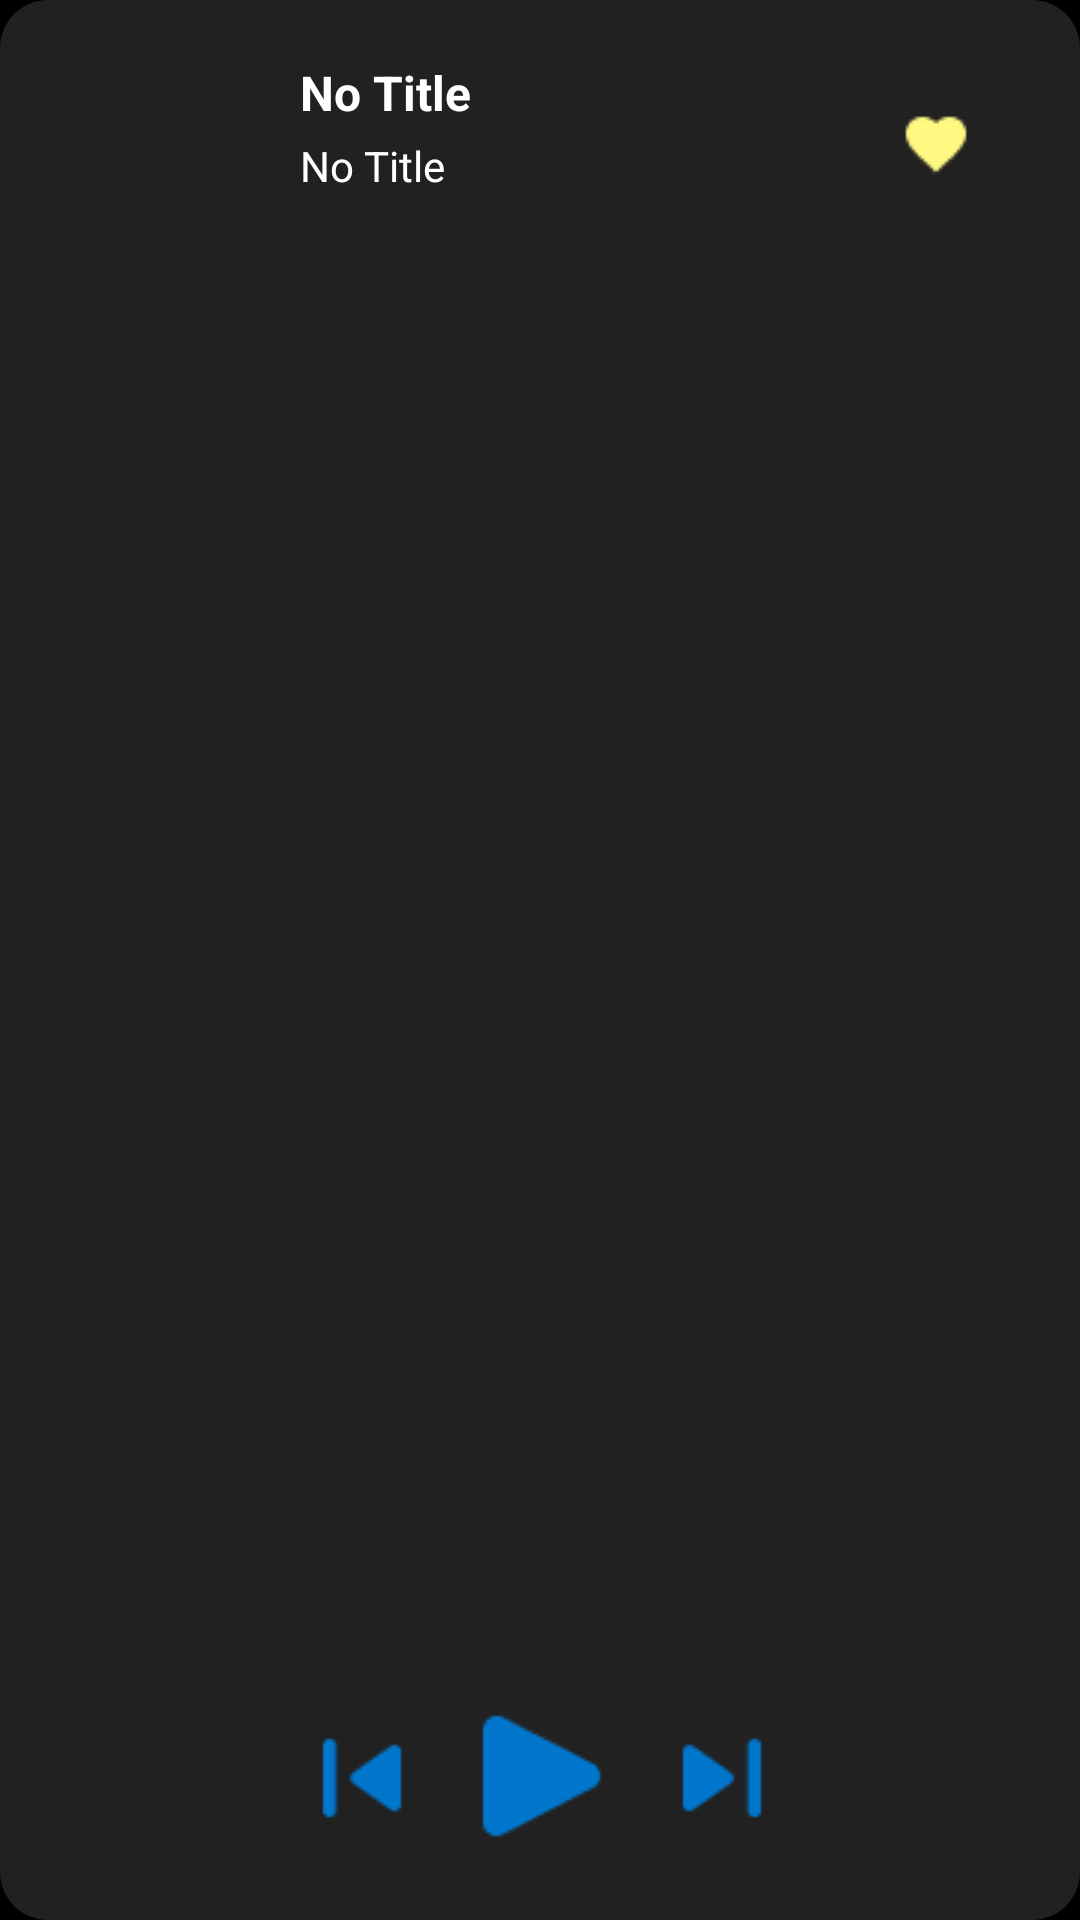

Icon click points for this 1080px×1920px phone screenshot, format (x,y):
heart: (936,144)
next: (722,1778)
Play: (541,1776)
Previous: (362,1778)
